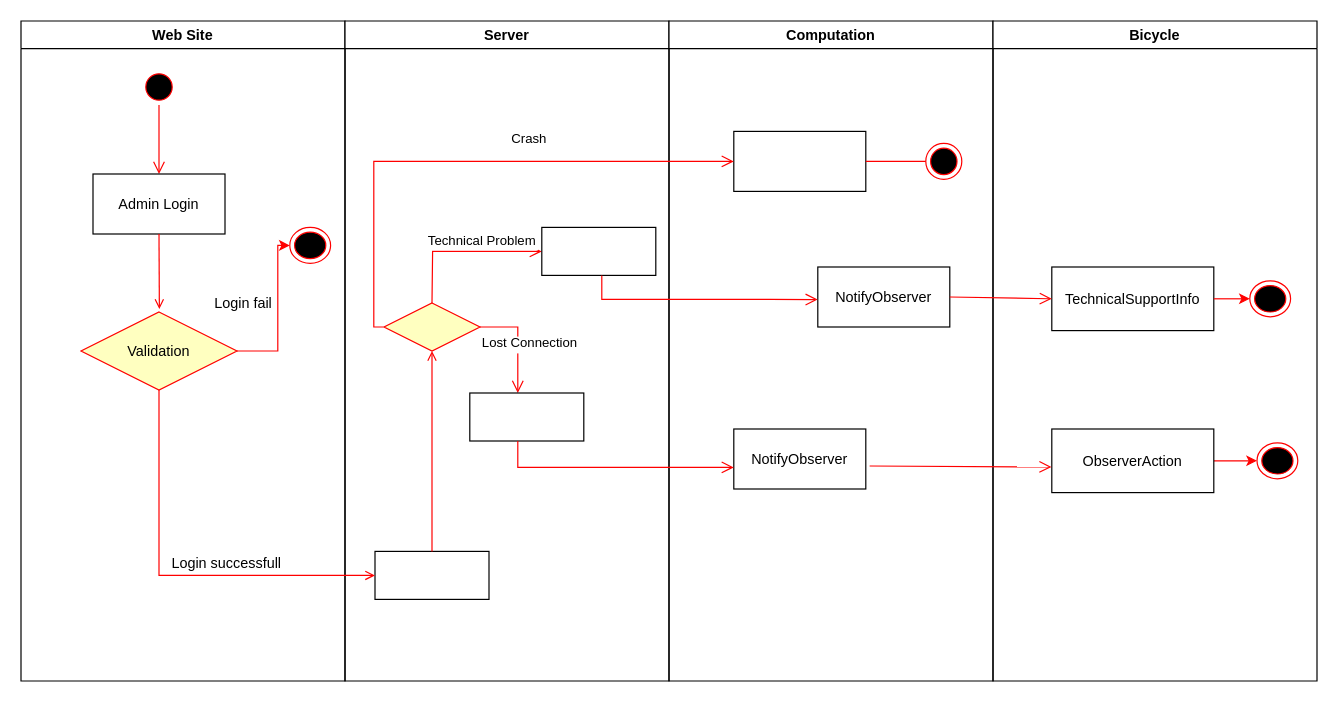
The diagram is 1338 pixels wide and 702 high, and some of its shapes have lost their labels. The shapes that lost their labels are listed below. From the top down, each one's centre as x and y in pixels, then its label:
(x=799, y=160): EmergencyCall
(x=598, y=250): FaultDetails
(x=431, y=326): Event
(x=526, y=416): GetRouteData
(x=431, y=574): SensorInfo
